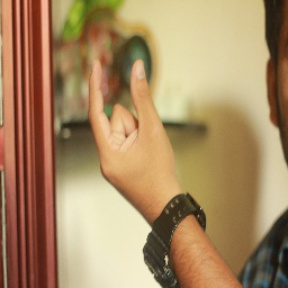U: (80, 53, 173, 183)
